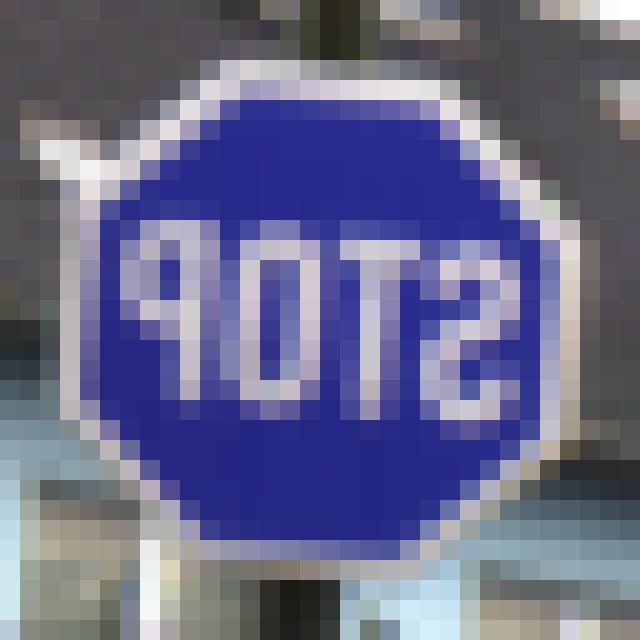STOP: (84, 81, 568, 560)
